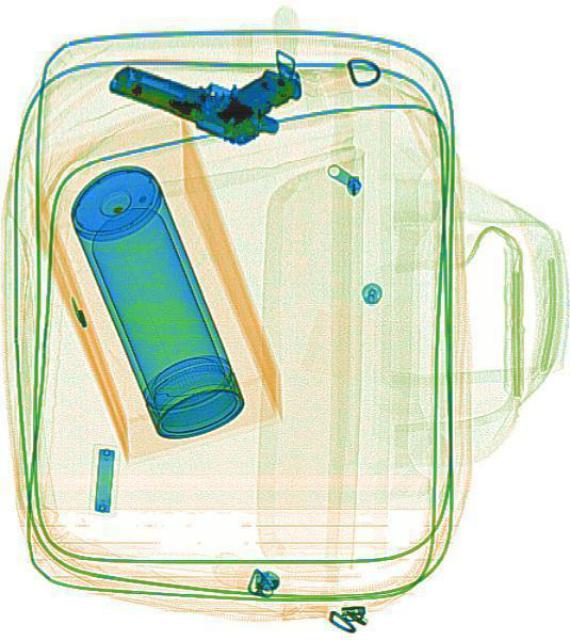Gun: (103, 21, 303, 158)
